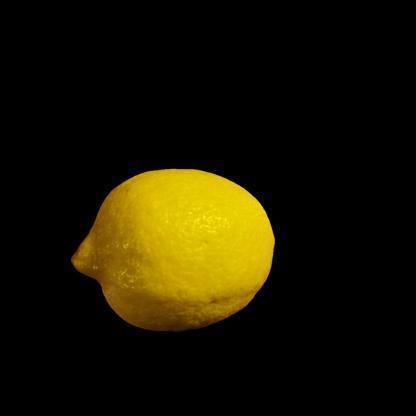lemon: (70, 168, 275, 332)
